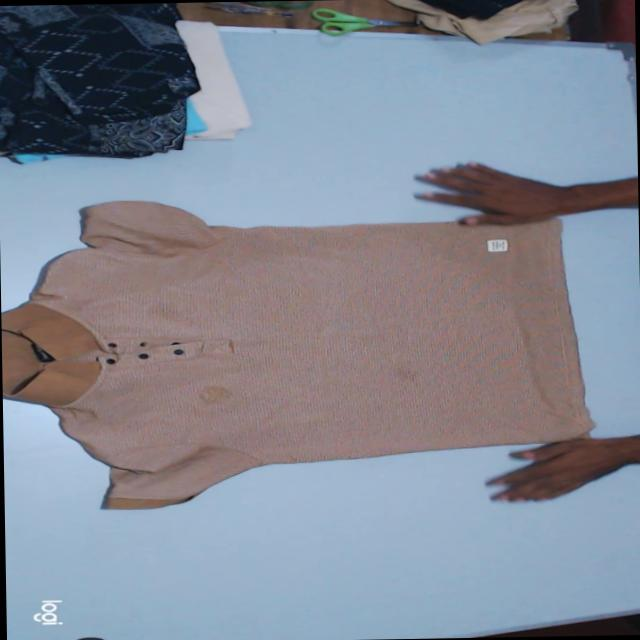new-garment: (0, 201, 593, 507)
